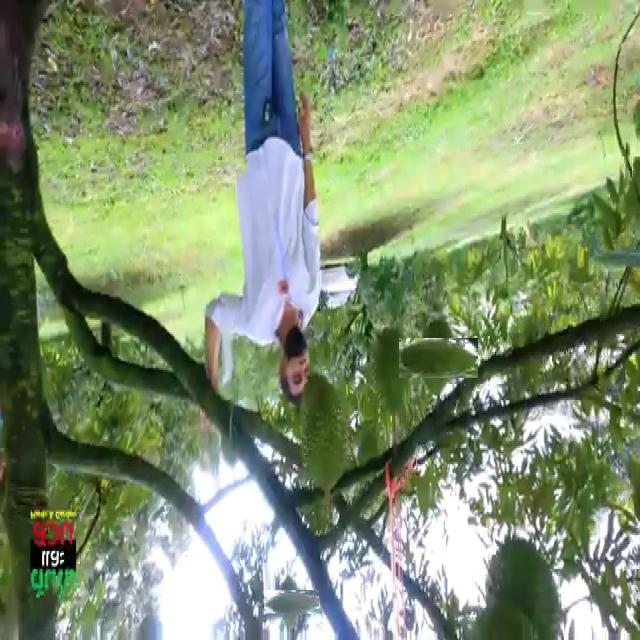durian: (484, 531, 564, 640), (296, 368, 351, 494), (370, 325, 412, 419), (408, 328, 468, 388), (271, 582, 311, 622)
